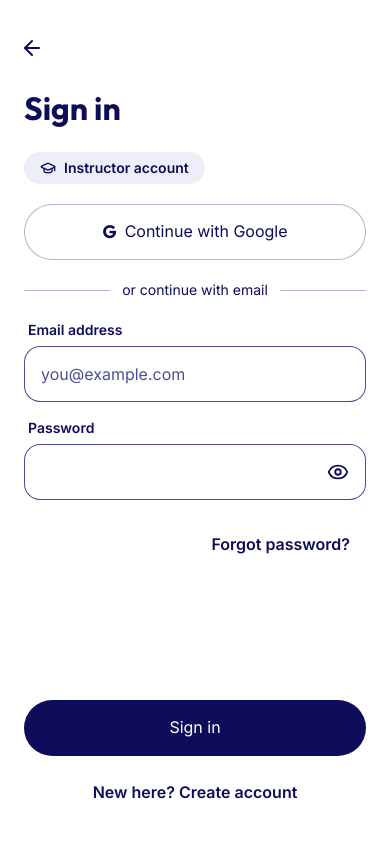
phone sign-in screen › shows the not-registered pop-up and sends the person to sign up with the same role
Type "ada@example.com" into the field labelled "Email address" at [195, 374], box x1=24 y1=346 x2=366 y2=402
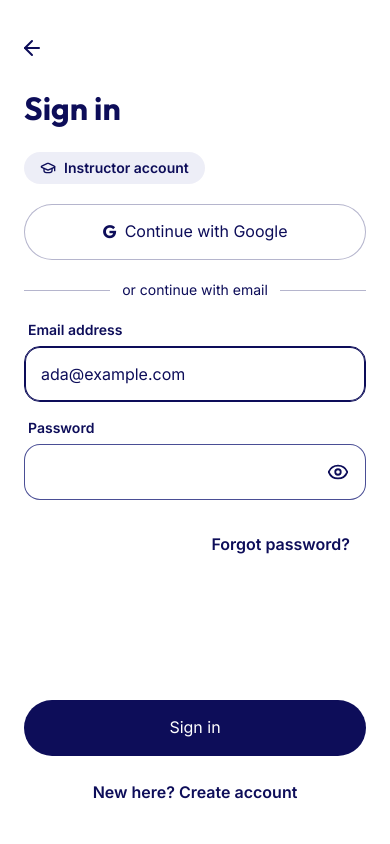
Type "password123" into the password field labelled "Password" at [195, 472], box x1=24 y1=444 x2=366 y2=500
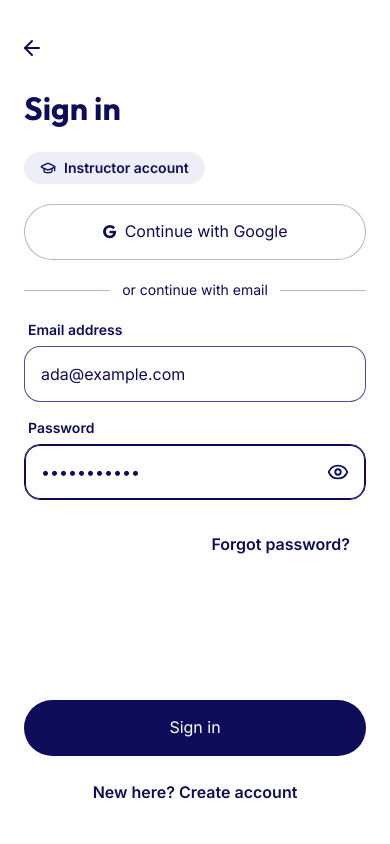
Click the button "Sign in" at [195, 728], box x1=24 y1=700 x2=366 y2=756
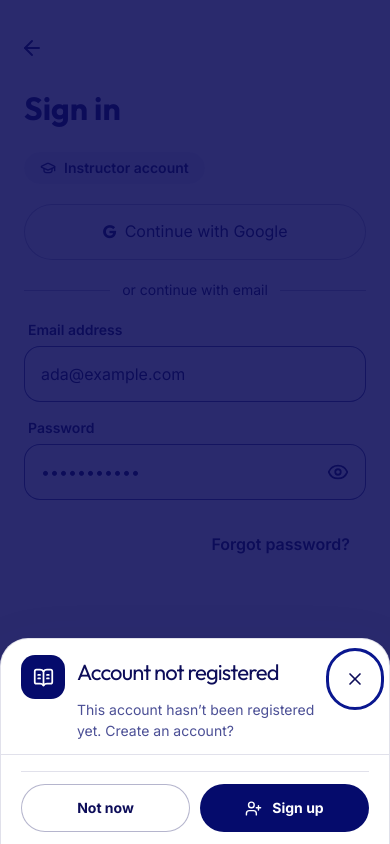
Check: the dialog "Account not registered" is shown, box x1=0 y1=638 x2=389 y2=843
Click the button "Sign up" at [284, 808], box x1=200 y1=784 x2=369 y2=832
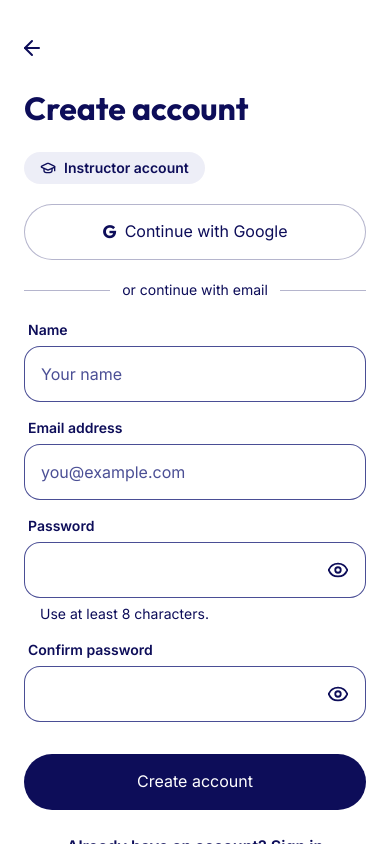
Check: the heading "Create account" is shown, box x1=24 y1=88 x2=248 y2=128
